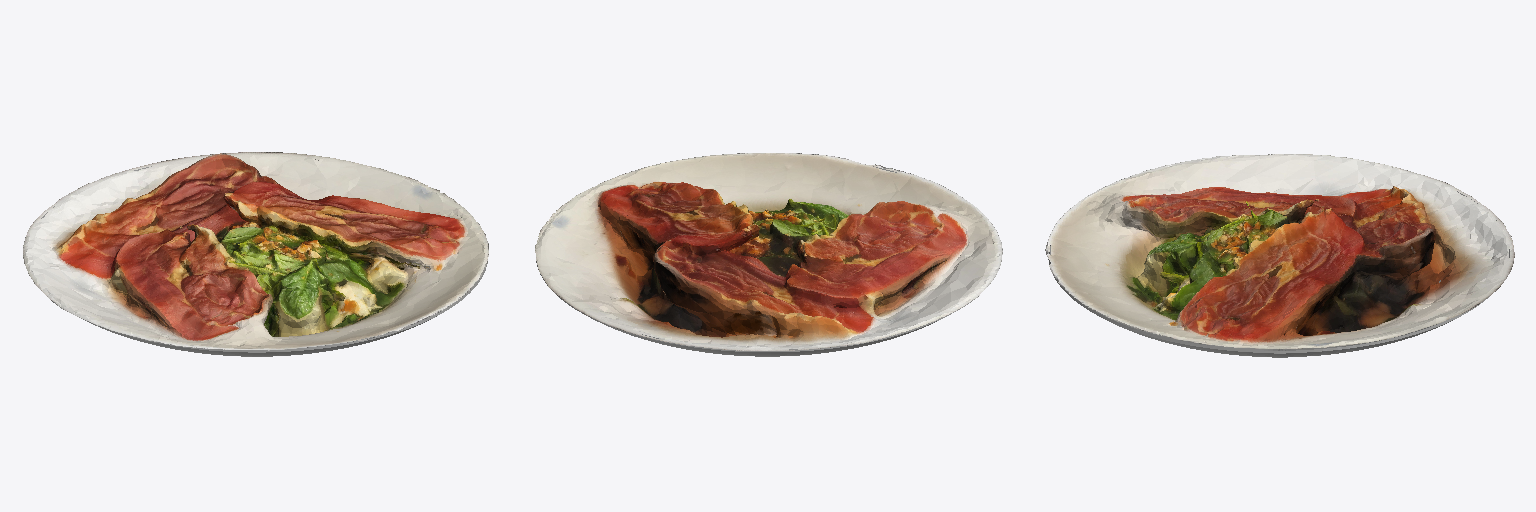
The picture shows the model from 3 angles: view 1: azimuth 30°, elevation 25°; view 2: azimuth 150°, elevation 25°; view 3: azimuth 270°, elevation 25°; orthographic projection.
Parts seen in each view (by area): view 1: mmGroup0; view 2: mmGroup0; view 3: mmGroup0.
Boxes of the visible parts, <box> form: mmGroup0: <box>23,152,488,356</box>; mmGroup0: <box>535,153,1002,356</box>; mmGroup0: <box>1045,154,1514,357</box>.
Bounding box in the file's own units: 0.1931 × 0.0412 × 0.1937.
2 materials, 2 textured.